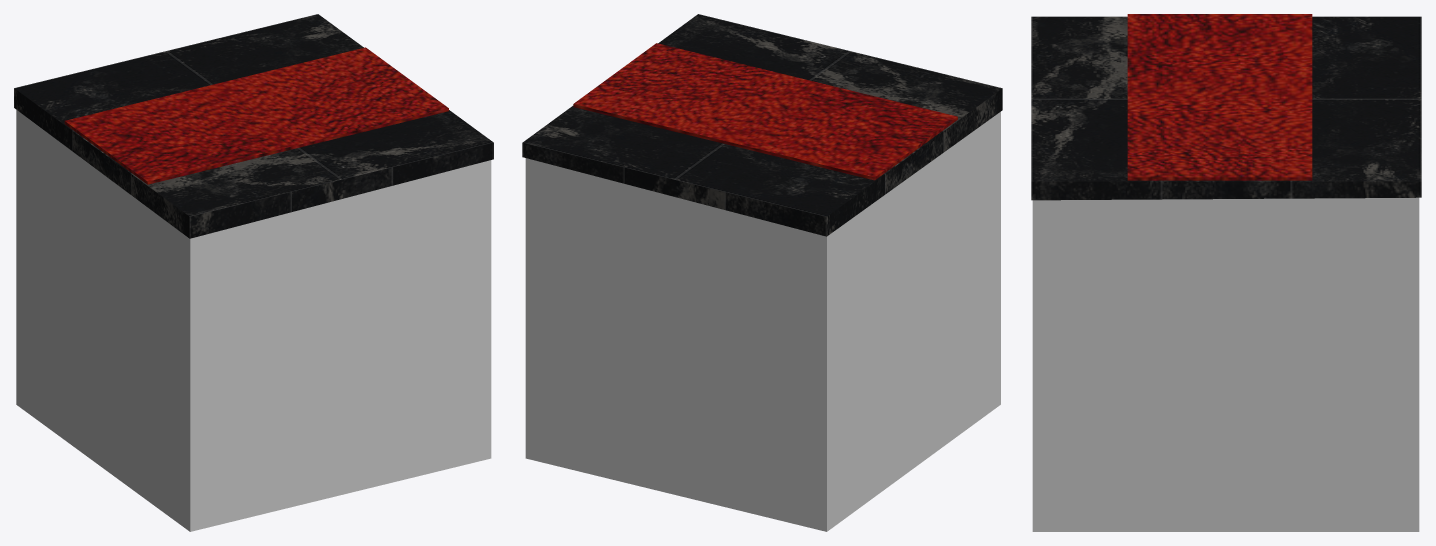
Rendered from path.glb.
3 renders of one model, left to right at view 1: azimuth 30°, elevation 25°; view 2: azimuth 150°, elevation 25°; view 3: azimuth 270°, elevation 25°, orthographic. The views are drawn at different scales.
Visible parts, largest first — view 1: Cube.002; view 2: Cube.002; view 3: Cube.002.
Part boxes in pixels (x1,y1,x2,y2): Cube.002: (14,14,493,531); Cube.002: (522,14,1002,531); Cube.002: (1031,14,1421,531).
Size of the model in its own units: 2.02 by 2.02 by 2.02.
Materials: 3 (2 with a texture image).
